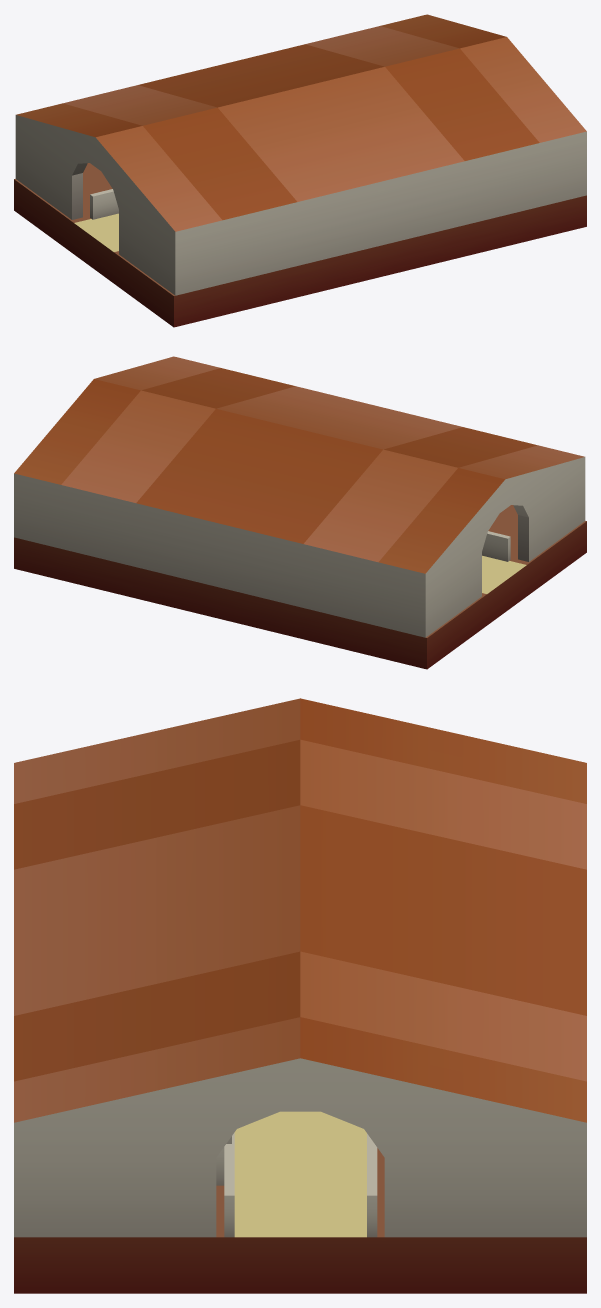
Rendered from SM_Pig_Farm_01.fbx.
3 views of the same model, one above another, from view 1: azimuth 30°, elevation 25°; view 2: azimuth 150°, elevation 25°; view 3: azimuth 270°, elevation 25° (orthographic). The views are drawn at different scales.
Parts seen in each view (by area): view 1: Farm_Part_01, Farm_Part_02; view 2: Farm_Part_01, Farm_Part_02; view 3: Farm_Part_01, Farm_Part_02.
Part boxes in pixels (x1,y1,x2,y2): Farm_Part_01: [15, 14, 586, 295]; Farm_Part_02: [14, 163, 586, 327]; Farm_Part_01: [14, 356, 585, 637]; Farm_Part_02: [14, 505, 586, 669]; Farm_Part_01: [14, 698, 586, 1237]; Farm_Part_02: [14, 1111, 586, 1293].
Size of the model in its own units: 197 by 59.81 by 132.
